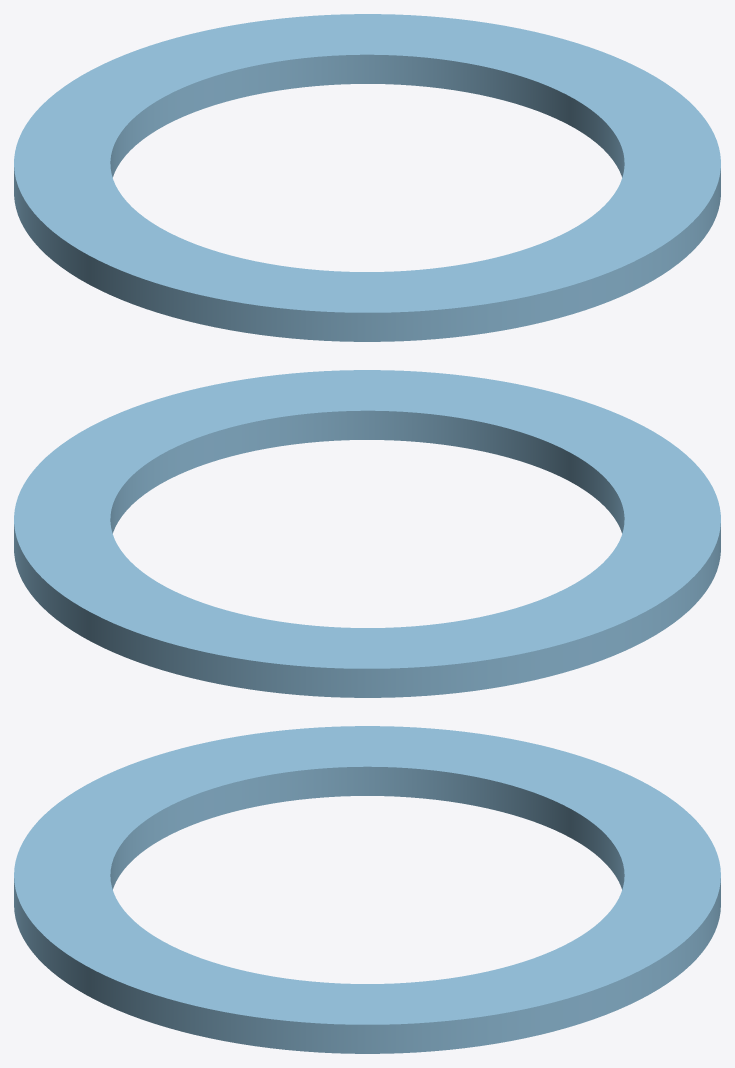
Rendered from Exc_8mm_ID_Shim_0_5mm_Thickness_2807_0811_0500.obj.
3 renders of one model, top to bottom at view 1: azimuth 30°, elevation 25°; view 2: azimuth 150°, elevation 25°; view 3: azimuth 270°, elevation 25°, orthographic.
Parts seen in each view (by area): view 1: mesh28545; view 2: mesh28545; view 3: mesh28545.
Boxes of the visible parts, x1,y1,x2,y2 form: mesh28545: (14, 14, 720, 341); mesh28545: (14, 370, 720, 697); mesh28545: (14, 726, 720, 1053).
Bounding box in the file's own units: 0.011 × 0.0005 × 0.011.
